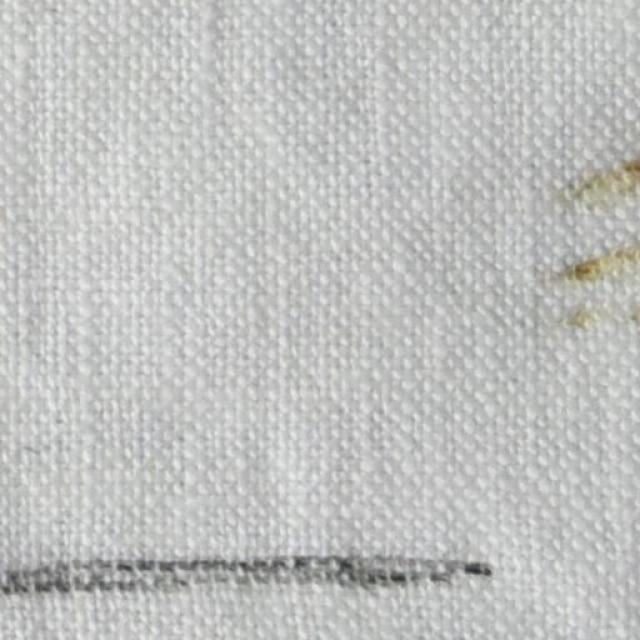Stain: (0, 548, 498, 617), (540, 138, 640, 328)
